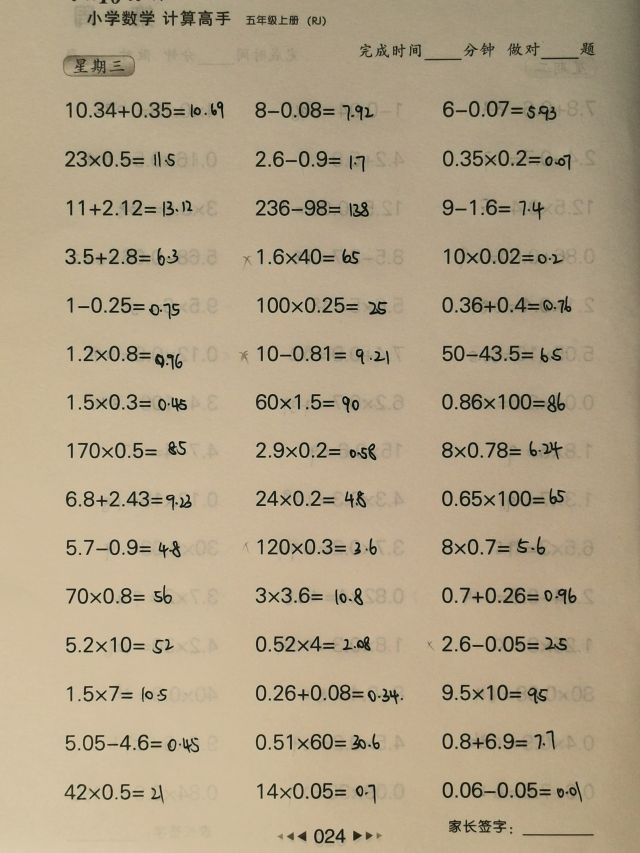equation: (62, 96, 229, 124), (437, 777, 586, 807), (251, 679, 406, 706), (239, 340, 393, 367), (63, 340, 187, 370), (437, 582, 580, 608), (423, 631, 571, 656), (437, 145, 574, 172), (438, 389, 570, 417), (61, 729, 203, 755), (61, 486, 195, 513), (438, 292, 576, 318), (253, 292, 390, 318), (437, 436, 566, 463), (62, 194, 195, 220), (437, 95, 560, 123), (251, 728, 383, 754), (253, 777, 380, 804), (251, 96, 378, 123), (438, 726, 559, 754), (252, 437, 380, 463), (437, 340, 565, 366), (436, 485, 569, 510), (63, 389, 190, 415), (254, 533, 380, 559), (62, 292, 183, 319), (252, 194, 372, 221), (251, 146, 368, 173), (63, 437, 189, 462), (441, 244, 567, 269), (62, 534, 183, 560), (62, 244, 182, 270), (437, 679, 551, 706), (63, 582, 177, 609), (252, 632, 375, 657), (242, 244, 365, 269), (252, 485, 369, 511), (251, 583, 367, 609), (438, 533, 549, 560), (63, 632, 178, 658), (437, 194, 547, 221), (62, 147, 179, 172), (251, 389, 363, 415), (60, 778, 167, 804), (64, 680, 171, 705)
